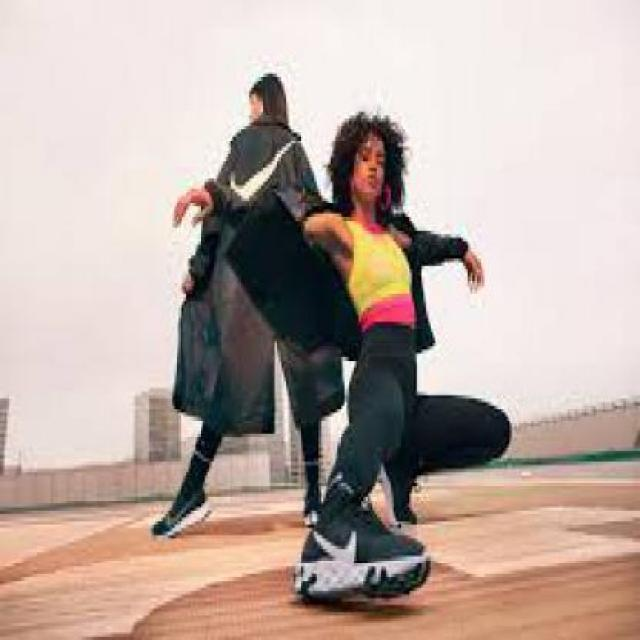Nike: (226, 129, 297, 200), (307, 525, 356, 564)
